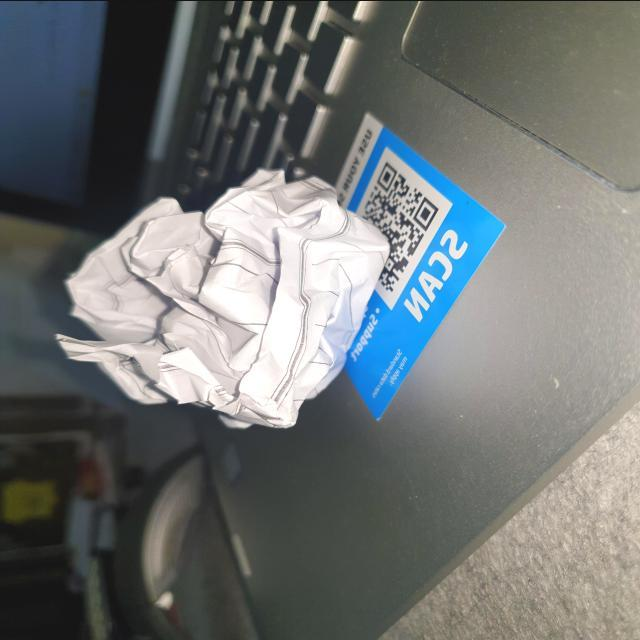Paper: (52, 170, 384, 439)
